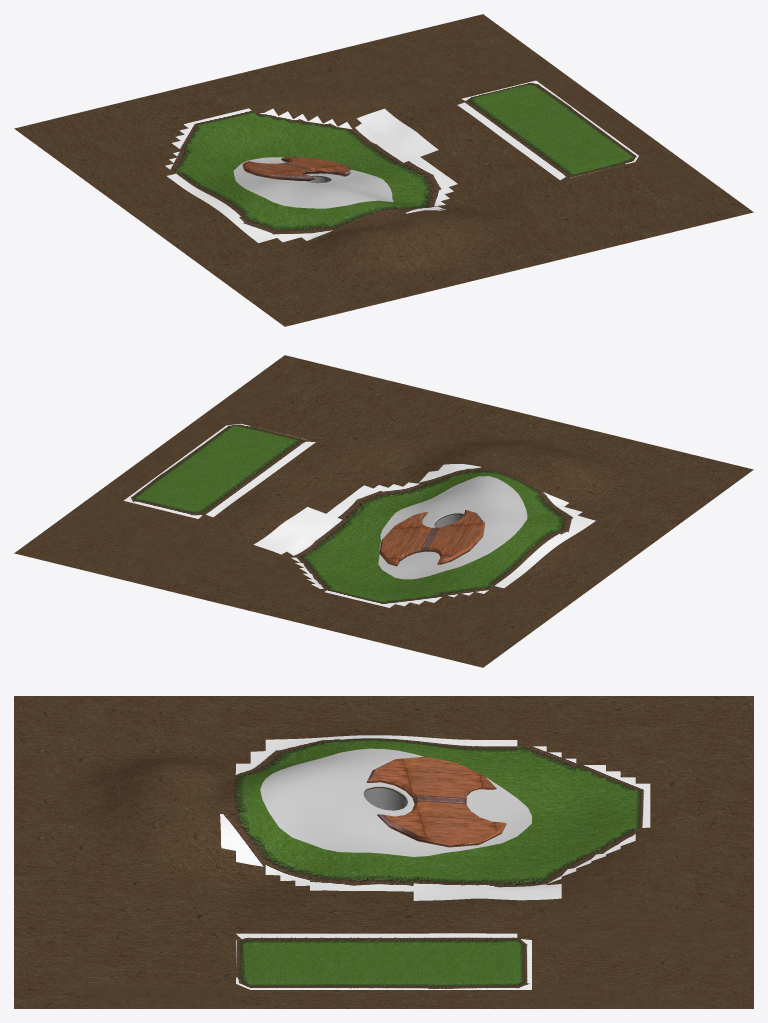
File: Hole017Set.fbx
The picture shows the model from 3 angles, top to bottom: view 1: azimuth 30°, elevation 25°; view 2: azimuth 150°, elevation 25°; view 3: azimuth 270°, elevation 25°; orthographic projection. The views are drawn at different scales.
Visible parts, largest first — view 1: Hole017MeshTerrain, HoleBlockerDisc1; view 2: Hole017MeshTerrain, HoleBlockerDisc1; view 3: Hole017MeshTerrain, HoleBlockerDisc1.
Boxes of the visible parts, bbox=[...] form: Hole017MeshTerrain: bbox=[14, 14, 753, 326]; HoleBlockerDisc1: bbox=[242, 157, 350, 180]; Hole017MeshTerrain: bbox=[14, 355, 753, 667]; HoleBlockerDisc1: bbox=[379, 510, 484, 566]; Hole017MeshTerrain: bbox=[14, 696, 753, 1008]; HoleBlockerDisc1: bbox=[366, 756, 506, 847].
Size of the model in its own units: 204 by 18.06 by 204.
